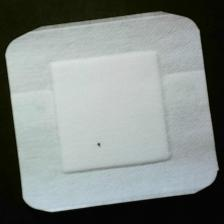Dressing: (5, 11, 220, 214)
F_Body: (91, 138, 110, 158)
